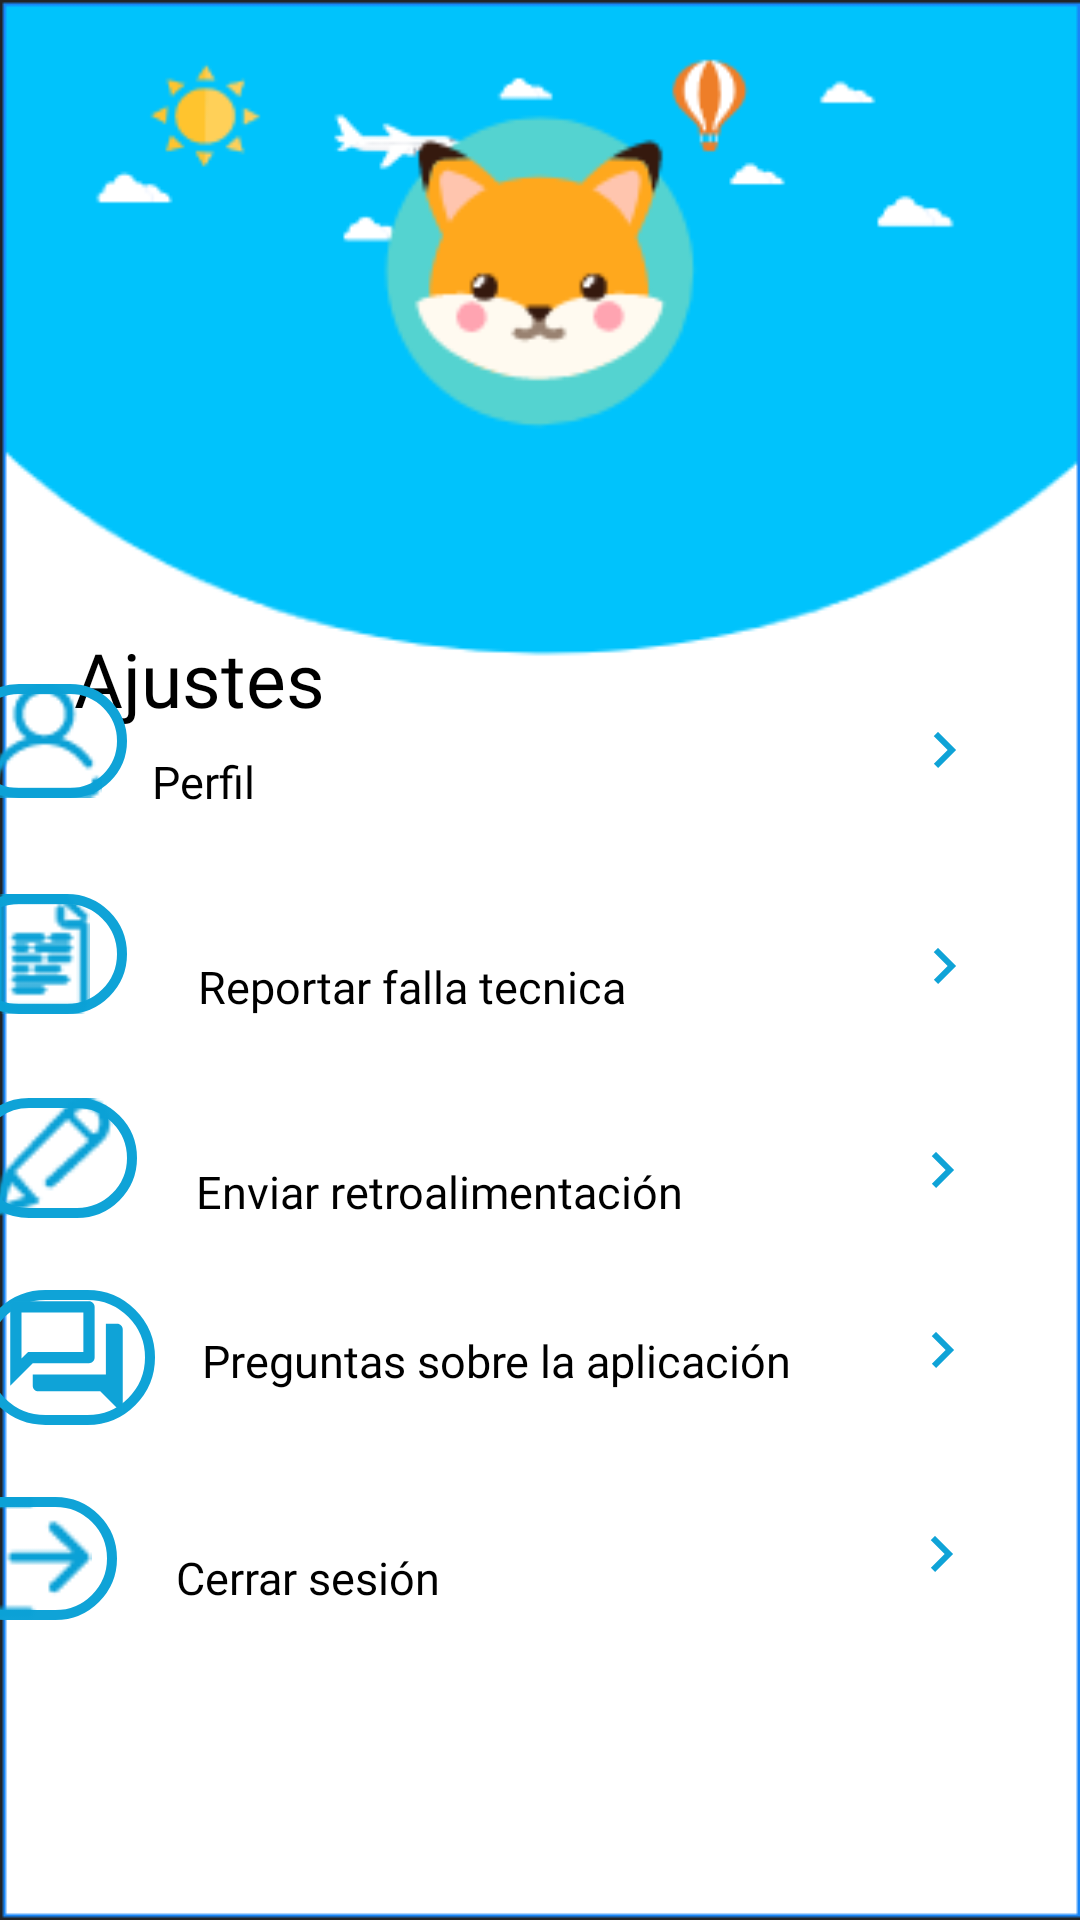

Icon click points for this 1080px x 1920px phone screenshot, format point (x, y):
flechita: point (945, 750), point (945, 966), point (943, 1170), point (943, 1350), point (942, 1554)
